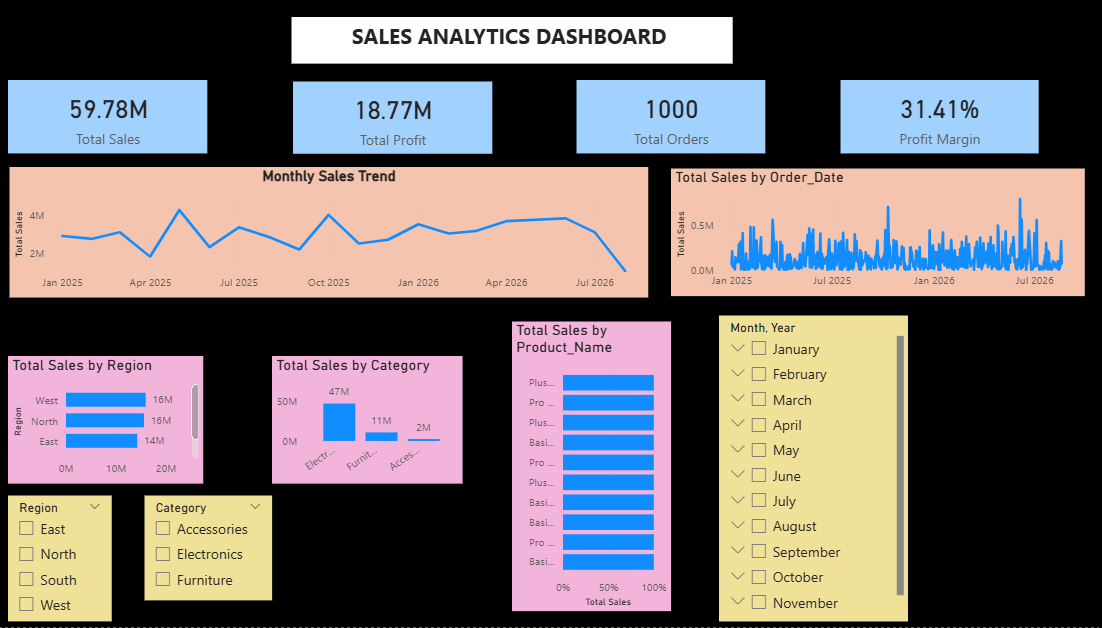

What the dashboard file says about the page in this screenshot:
{"tool":"powerbi","page":{"name":"Page 1","canvas":[1280,720],"ordinal":0},"visuals":[{"type":"card","fields":{"Values":["Orders.Total Sales"]},"box":[27.5,92.7,228.2,84.1],"z":0},{"type":"card","fields":{"Values":["Orders.Total Orders"]},"box":[677.7,92.7,216.2,84.1],"z":1000},{"type":"card","fields":{"Values":["Orders.Total Profit"]},"box":[353.5,94.4,228.2,82.4],"z":2000},{"type":"card","fields":{"Values":["Orders.Profit Margin"]},"box":[979.7,92.7,226.5,84.1],"z":3000},{"type":"lineChart","fields":{"Category":["Orders.Order_Date.Variation.Date Hierarchy.Year"],"Y":["Orders.Total Sales"]},"box":[785.8,193.9,473.6,145.8],"z":4000},{"type":"hundredPercentStackedBarChart","fields":{"Category":["Products.Product_Name"],"Y":["Orders.Total Sales"]},"box":[604,368.9,181.9,331.2],"z":5000},{"type":"slicer","fields":{"Values":["Customers.Region"]},"box":[27.5,567.9,118.4,144.1],"z":6000},{"type":"slicer","fields":{"Values":["Products.Category"]},"box":[183.6,567.9,145.8,120.1],"z":7000},{"type":"lineChart","title":"Monthly Sales Trend","fields":{"Y":["Orders.Total Sales"],"Category":["Orders.Order_Date.Variation.Date Hierarchy.Year","Orders.Order_Date.Variation.Date Hierarchy.Month"]},"box":[29.2,192.2,730.9,149.3],"z":8000},{"type":"clusteredBarChart","fields":{"Category":["Customers.Region"],"Y":["Orders.Total Sales"]},"box":[27.5,408.4,223.1,145.8],"z":9000},{"type":"clusteredColumnChart","fields":{"Category":["Products.Category"],"Y":["Orders.Total Sales"]},"box":[329.4,408.4,217.9,145.8],"z":10000},{"type":"slicer","fields":{"Values":["Orders.Order_Date.Variation.Date Hierarchy.Month","Orders.Order_Date.Variation.Date Hierarchy.Year"]},"box":[840.8,362,216.2,350],"z":11000},{"type":"textbox","box":[351.7,20.6,504.5,53.2],"z":12000}]}

Visuals, with their boxes in screenshot pixels (x1, y1, x2, y2), scaled from the page's 1280x720 canvas onto the 1102x628 screenshot:
card - Orders.Total Sales: select_region(24, 81, 220, 154)
card - Orders.Total Orders: select_region(583, 81, 770, 154)
card - Orders.Total Profit: select_region(304, 82, 501, 154)
card - Orders.Profit Margin: select_region(843, 81, 1038, 154)
lineChart - Orders.Order_Date.Variation.Date Hierarchy.Year x Orders.Total Sales: select_region(677, 169, 1084, 296)
hundredPercentStackedBarChart - Products.Product_Name x Orders.Total Sales: select_region(520, 322, 677, 611)
slicer - Customers.Region: select_region(24, 495, 126, 621)
slicer - Products.Category: select_region(158, 495, 284, 600)
"Monthly Sales Trend" lineChart: select_region(25, 168, 654, 298)
clusteredBarChart - Customers.Region x Orders.Total Sales: select_region(24, 356, 216, 483)
clusteredColumnChart - Products.Category x Orders.Total Sales: select_region(284, 356, 471, 483)
slicer - Orders.Order_Date.Variation.Date Hierarchy.Month x Orders.Order_Date.Variation.Date Hierarchy.Year: select_region(724, 316, 910, 621)
textbox: select_region(303, 18, 737, 64)
